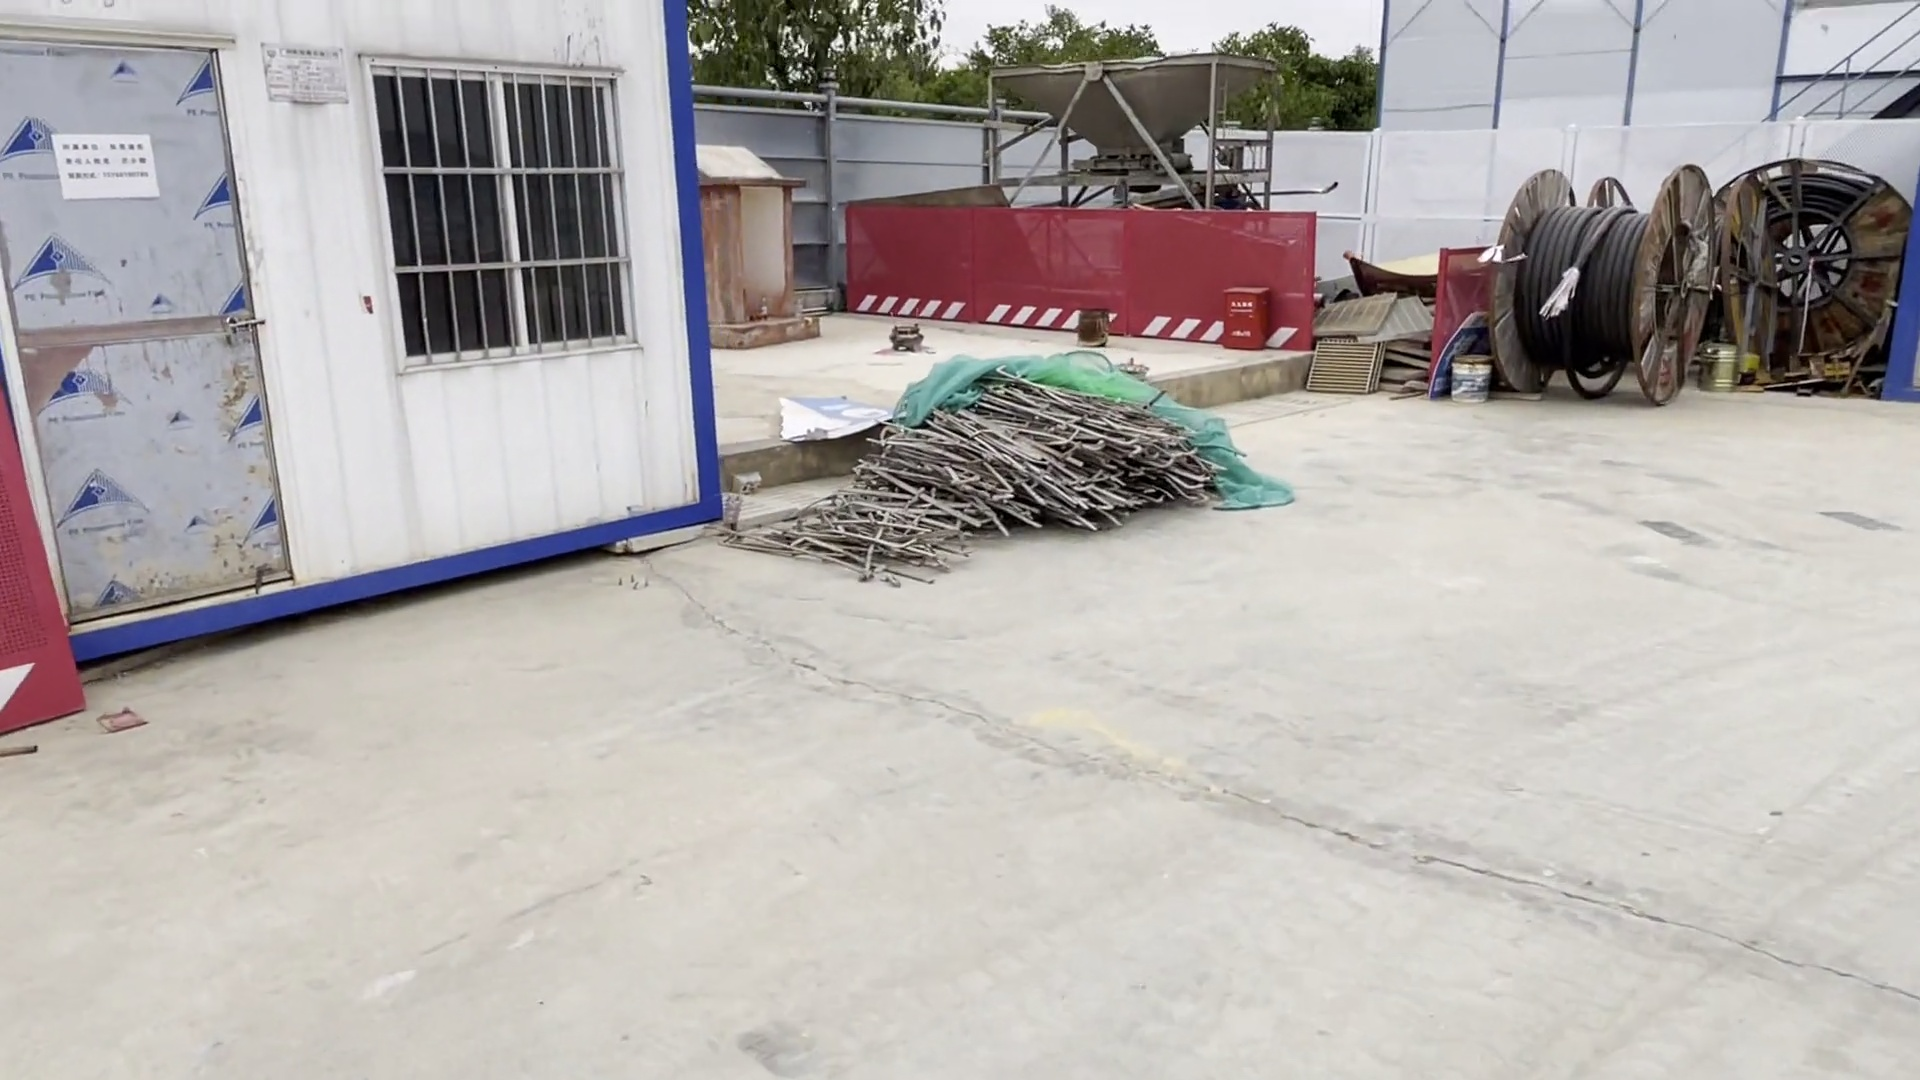fence: (829, 190, 1328, 363)
